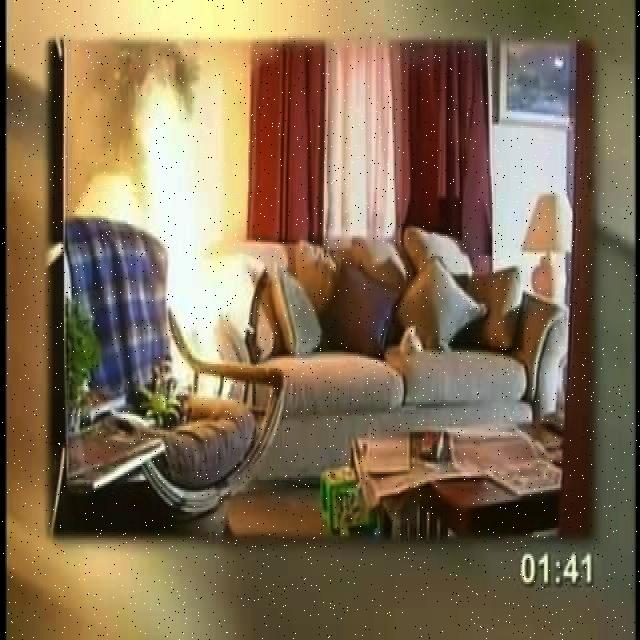fire: (130, 79, 256, 350)
